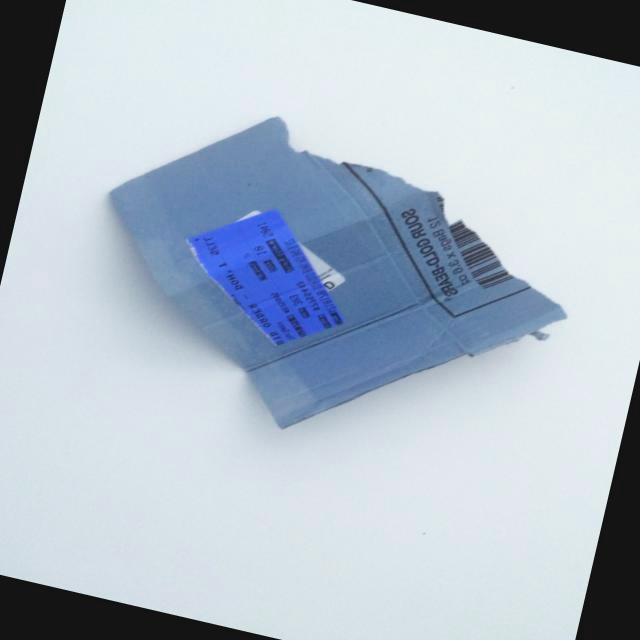cardboard: (54, 75, 604, 502)
